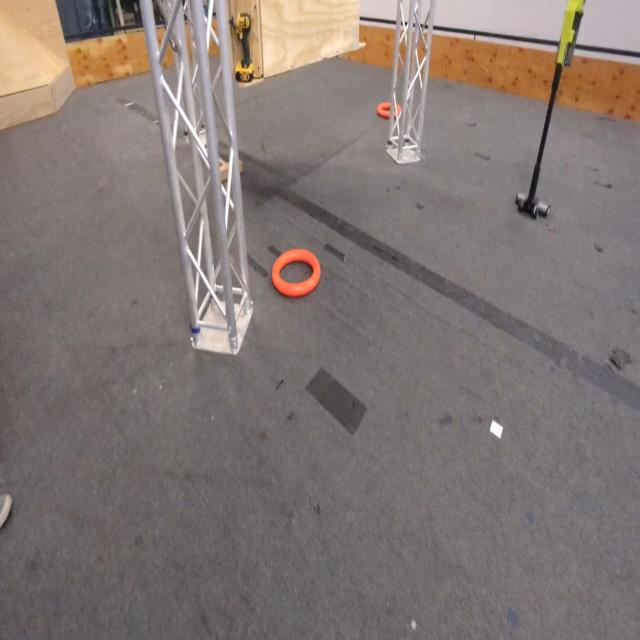note: (270, 249, 321, 298), (377, 98, 405, 124)
